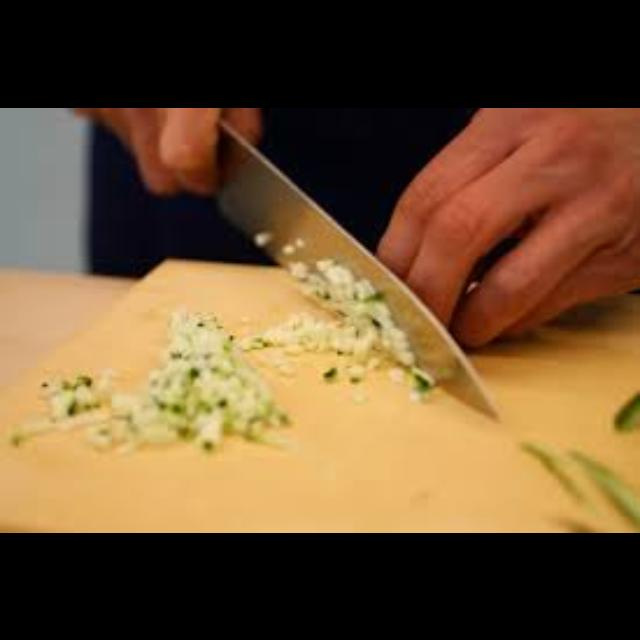Knife: (214, 115, 500, 422)
Person: (62, 107, 640, 357)
